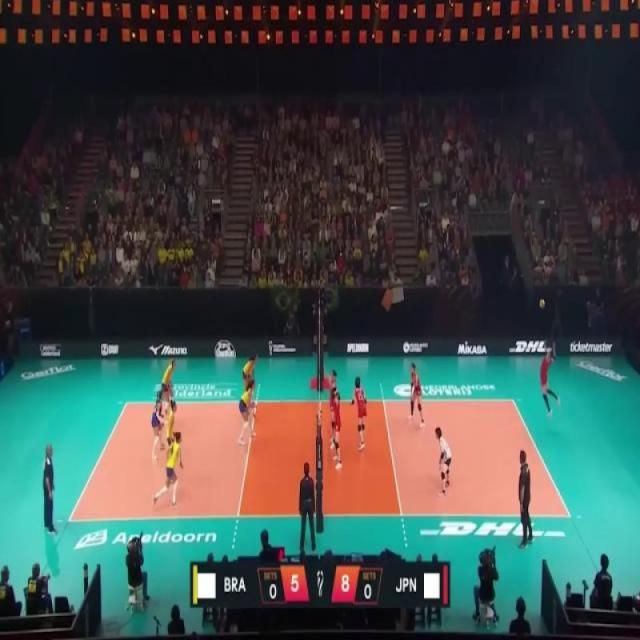volleyball: (539, 298, 545, 310)
